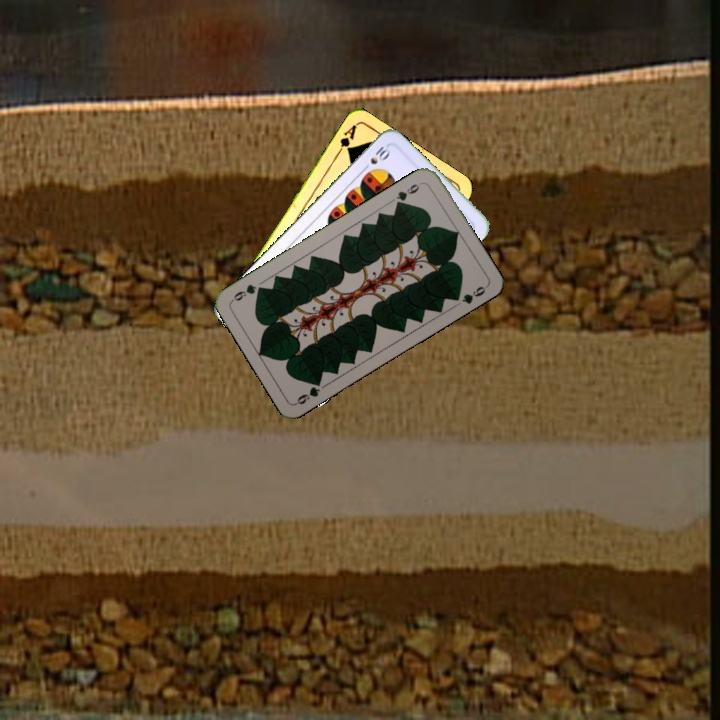G9: (292, 375, 324, 407), (392, 180, 422, 209)
GA: (332, 121, 359, 158)
S10: (358, 142, 393, 174)
